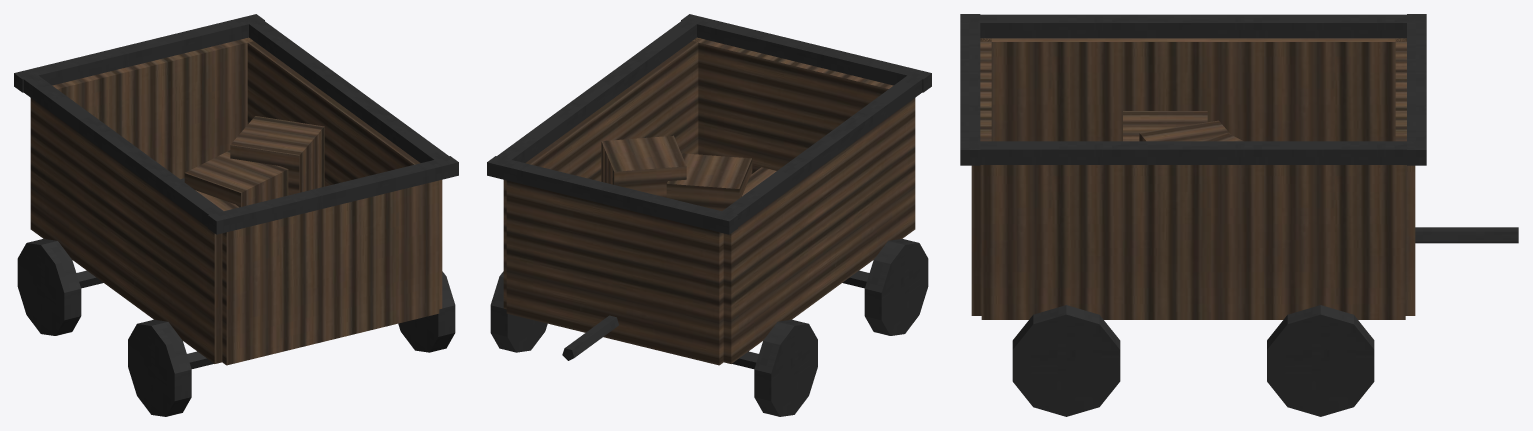
File: mine_cart_01.glb
3 renders of one model, left to right at view 1: azimuth 30°, elevation 25°; view 2: azimuth 150°, elevation 25°; view 3: azimuth 270°, elevation 25°, orthographic. The views are drawn at different scales.
Visible parts, largest first — view 1: mine_cart_01; view 2: mine_cart_01; view 3: mine_cart_01.
Part boxes in pixels (left/top/right/bottom): mine_cart_01: left=14, top=14, right=458, bottom=416; mine_cart_01: left=487, top=14, right=931, bottom=416; mine_cart_01: left=960, top=14, right=1518, bottom=416.
Bounding box in the file's own units: 1.32 × 1 × 1.98.
2 materials, 2 textured.
